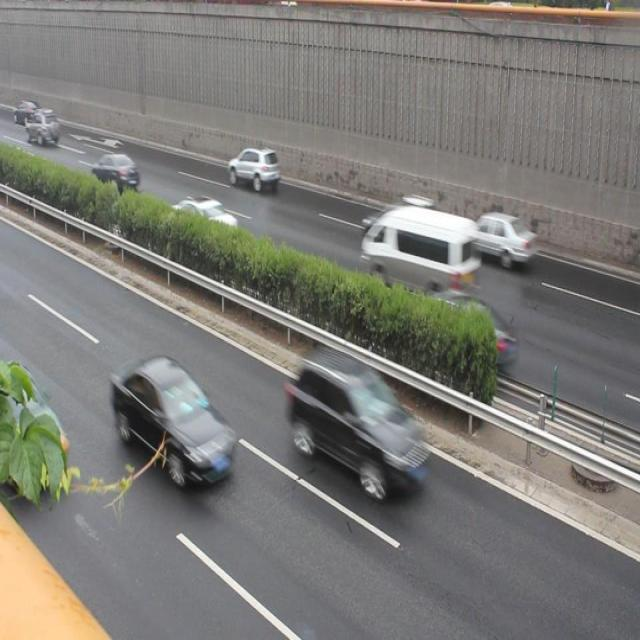car: (288, 349, 428, 492), (113, 356, 235, 480), (394, 288, 511, 375), (1, 357, 70, 489), (459, 207, 538, 268), (163, 195, 238, 251), (228, 145, 280, 193), (89, 151, 140, 192)
truck: (362, 204, 477, 296), (366, 193, 454, 267)
